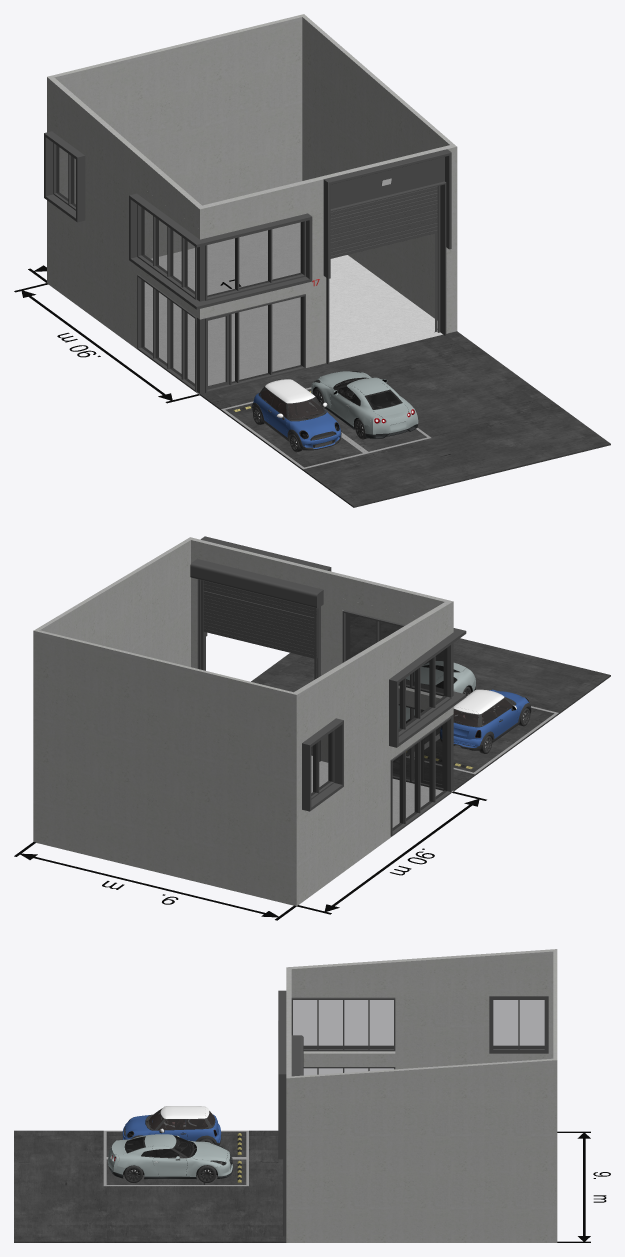
File: Without_Mezzanine.glb
3 renders of one model, top to bottom at view 1: azimuth 30°, elevation 25°; view 2: azimuth 150°, elevation 25°; view 3: azimuth 270°, elevation 25°, orthographic. The views are drawn at different scales.
Visible parts, largest first — view 1: Object1746170056, Box2131647111, Box2131647102, Shape382, Shape383, Object1746170057, Segment 006, AM132_033_39.002, AM132_041_25.002, Rectangle2133403701, Component#120 [25525]106, Component#121 [25528]106 (+4 smaller); view 2: Object1746170056, Shape382, Box2131647102, Box2131647111, Object1746170057, Segment 006, AM132_041_25.002, Rectangle2133403701, Object1746170048, Rectangle2133403704, Shape383, AM132_033_39.002 (+4 smaller); view 3: Object1746170057, Box2131647111, Shape382, Box2131647102, AM132_033_39.002, Rectangle2133403701, AM132_041_25.002, Rectangle2133403705, Object1746170056, Component#121 [25528]106, Rectangle2133403704, Object1746170048 (+2 smaller).
Boxes of the visible parts, bbox=[...] form: Object1746170056: bbox=[52, 14, 305, 258]; Box2131647111: bbox=[200, 331, 610, 507]; Box2131647102: bbox=[129, 193, 312, 393]; Shape382: bbox=[47, 75, 457, 367]; Shape383: bbox=[140, 222, 442, 394]; Object1746170057: bbox=[302, 16, 453, 320]; Segment 006: bbox=[330, 186, 437, 258]; AM132_033_39.002: bbox=[311, 371, 418, 439]; AM132_041_25.002: bbox=[252, 379, 341, 452]; Rectangle2133403701: bbox=[44, 131, 85, 222]; Component#120 [25525]106: bbox=[330, 157, 444, 208]; Component#121 [25528]106: bbox=[323, 149, 451, 278]; Object1746170056: bbox=[33, 629, 293, 904]; Shape382: bbox=[187, 537, 453, 905]; Box2131647102: bbox=[342, 610, 466, 836]; Box2131647111: bbox=[251, 615, 610, 790]; Object1746170057: bbox=[36, 539, 190, 666]; Segment 006: bbox=[203, 581, 317, 658]; AM132_041_25.002: bbox=[440, 689, 531, 753]; Rectangle2133403701: bbox=[302, 718, 343, 811]; Object1746170048: bbox=[190, 559, 323, 608]; Rectangle2133403704: bbox=[342, 598, 453, 677]; Shape383: bbox=[311, 756, 453, 837]; AM132_033_39.002: bbox=[399, 661, 475, 728]; Object1746170057: bbox=[291, 1058, 553, 1242]; Box2131647111: bbox=[14, 1130, 286, 1242]; Shape382: bbox=[286, 949, 557, 1242]; Box2131647102: bbox=[278, 990, 395, 1075]; AM132_033_39.002: bbox=[108, 1134, 232, 1182]; Rectangle2133403701: bbox=[489, 996, 548, 1053]; AM132_041_25.002: bbox=[122, 1106, 221, 1144]; Rectangle2133403705: bbox=[303, 1051, 395, 1066]; Object1746170056: bbox=[553, 951, 557, 1242]; Component#121 [25528]106: bbox=[278, 1020, 286, 1159]; Rectangle2133403704: bbox=[291, 988, 395, 997]; Object1746170048: bbox=[291, 1035, 303, 1076].
Size of the model in its own units: 11.73 by 7.5 by 22.19.
Materials: 57 (7 with a texture image).
